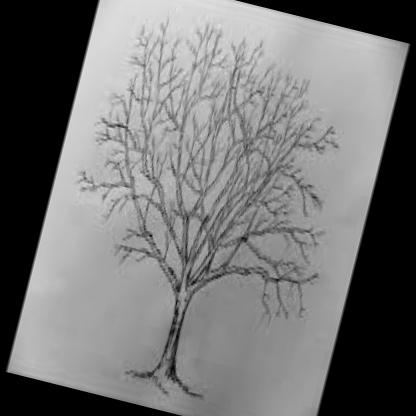trunk_bark: (158, 299, 192, 370)
